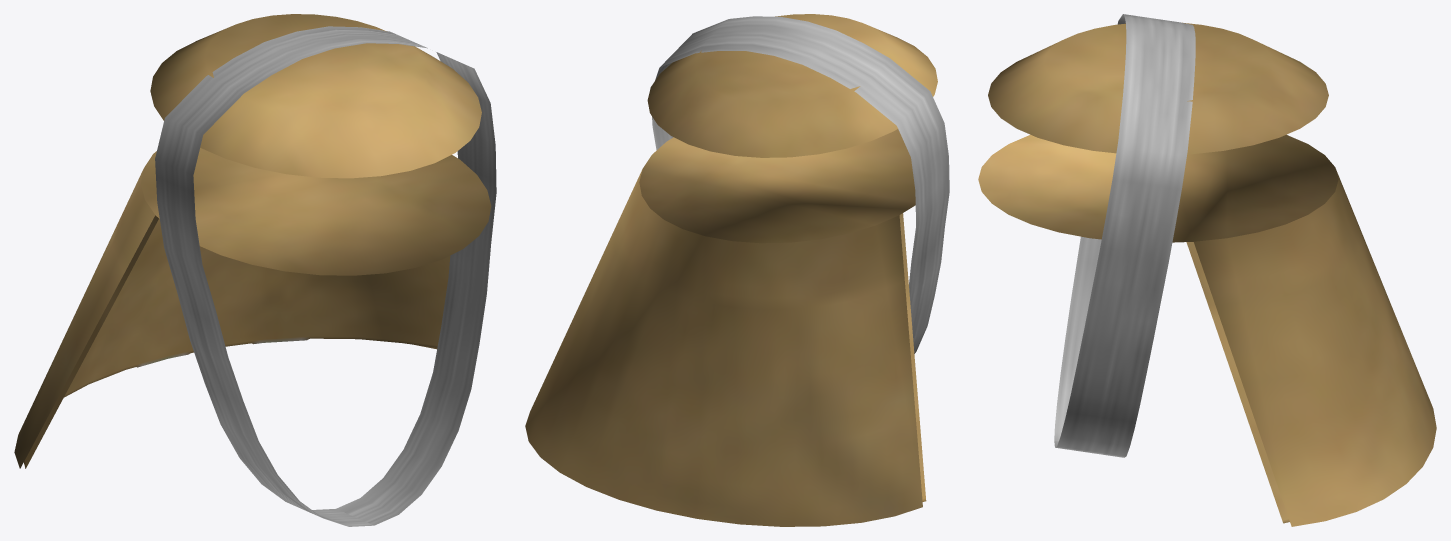
The model's file is helmet_moch_basic_2.dae.
The picture shows the model from 3 angles, left to right: view 1: azimuth 30°, elevation 25°; view 2: azimuth 150°, elevation 25°; view 3: azimuth 270°, elevation 25°; orthographic projection. The views are drawn at different scales.
Parts seen in each view (by area): view 1: helmet_moch_basic_2; view 2: helmet_moch_basic_2; view 3: helmet_moch_basic_2.
Boxes of the visible parts, box(x1,y1,x2,y2) form: helmet_moch_basic_2: box(14, 14, 496, 526); helmet_moch_basic_2: box(525, 14, 949, 526); helmet_moch_basic_2: box(978, 14, 1436, 526).
Size of the model in its own units: 0.7223 by 0.7071 by 0.7066.
